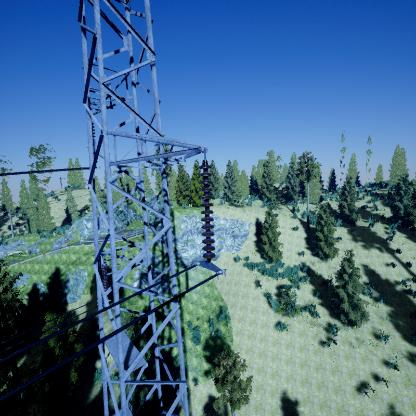insulator: (197, 160, 217, 263)
